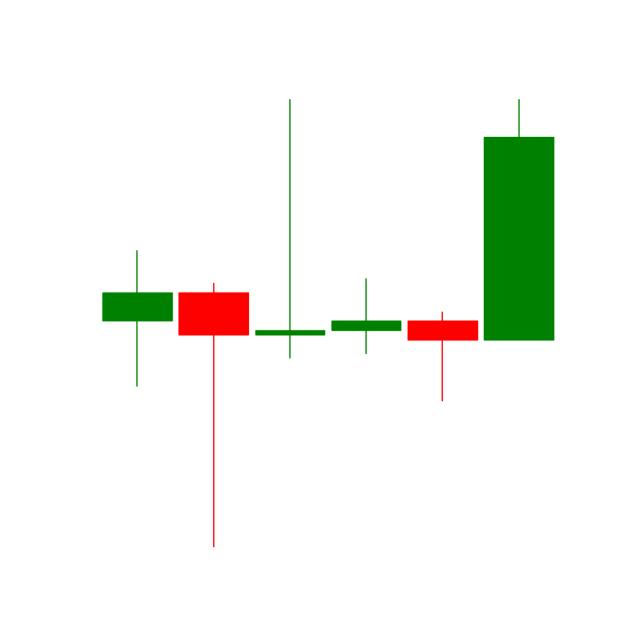Hanging Man: (178, 279, 252, 549), (403, 309, 481, 402)
